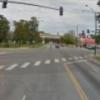crosswalks: (0, 56, 86, 71)
